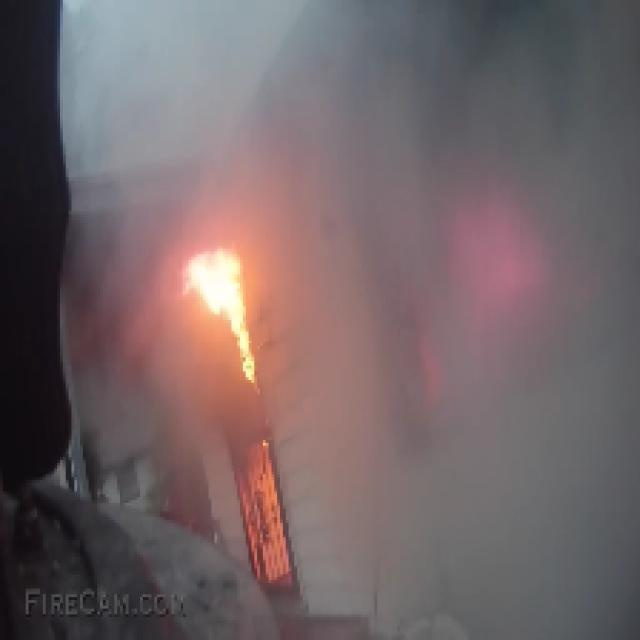Fire: (171, 226, 266, 403), (234, 437, 292, 597)
Smoke: (66, 11, 634, 640)
